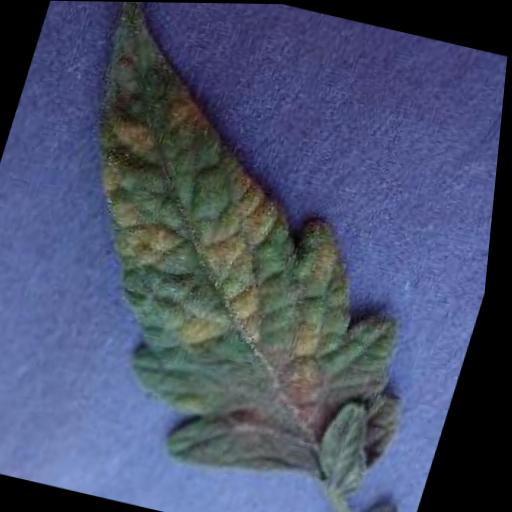Leaf Mold: (0, 0, 512, 498)
